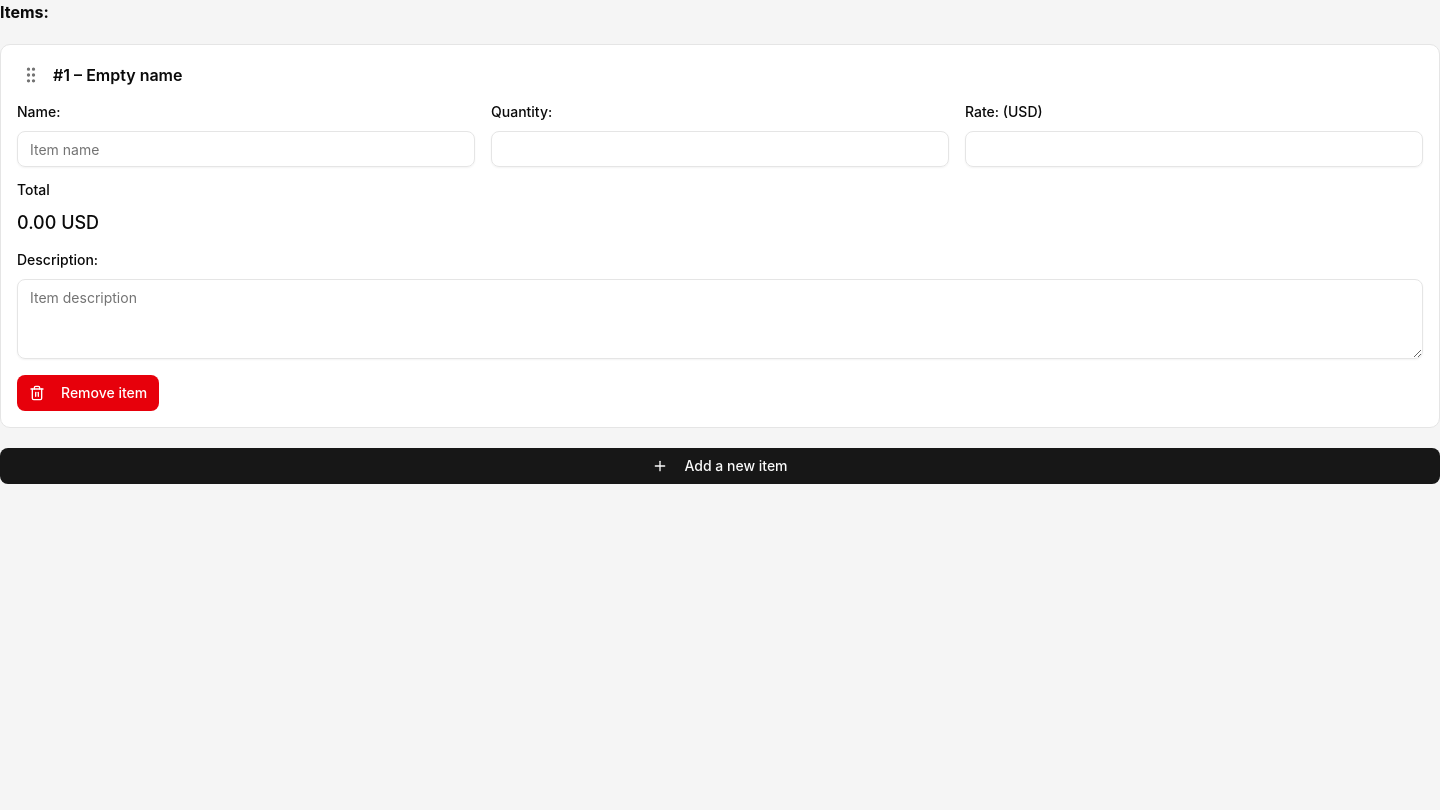
Scenario: LineItems › adds a new blank row when 'Add a new item' is clicked
The image size is (1440, 810).
What coordinates should you click on to do the following:
click the button "Add a new item"
I would click on:
 (720, 466)
Its box is left=0, top=448, right=1439, bottom=484.
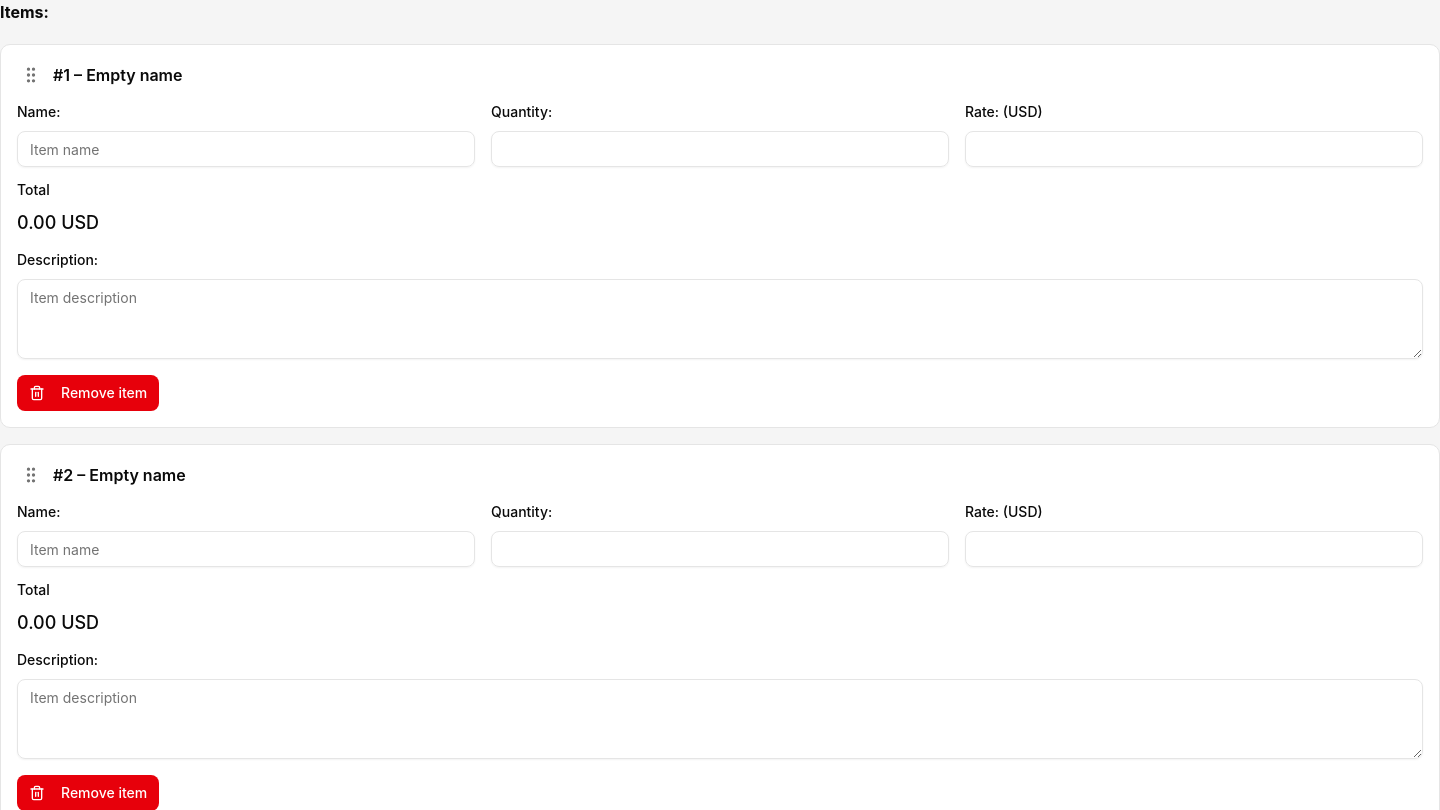
Check: the number of buttons "Remove item" is 2, box left=17, top=375, right=159, bottom=411; left=17, top=775, right=159, bottom=809
